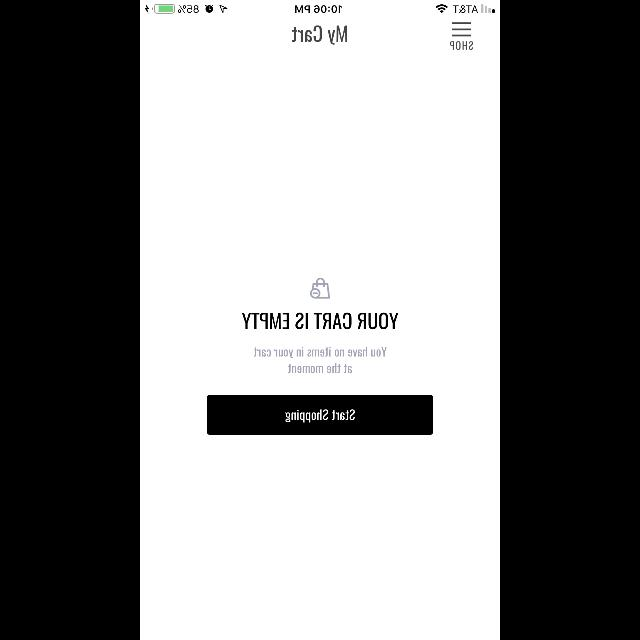icon: (310, 278, 330, 298), (452, 22, 471, 38)
text: (254, 347, 386, 373), (242, 312, 398, 330), (292, 26, 346, 44), (450, 41, 472, 50)
textbutton: (207, 395, 433, 435)
uppertaskbar: (140, 0, 500, 14)
